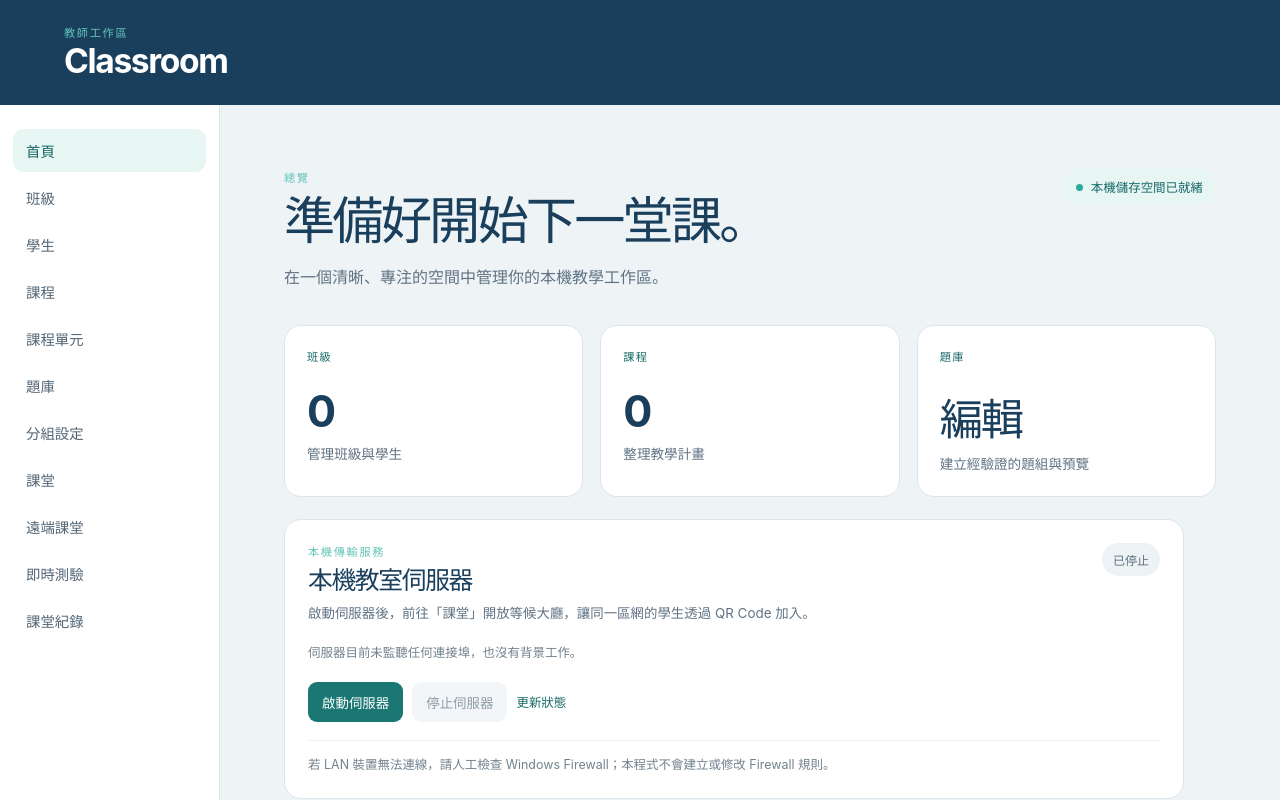
it: Teacher basic data workspace › shows an empty classroom state and validates a blank create
This screenshot has width=1280, height=800.
Check: the text "本機儲存空間已就緒" is shown, box [1063,169,1216,205]
Click the button "班級": (110, 198) [13,176,206,219]
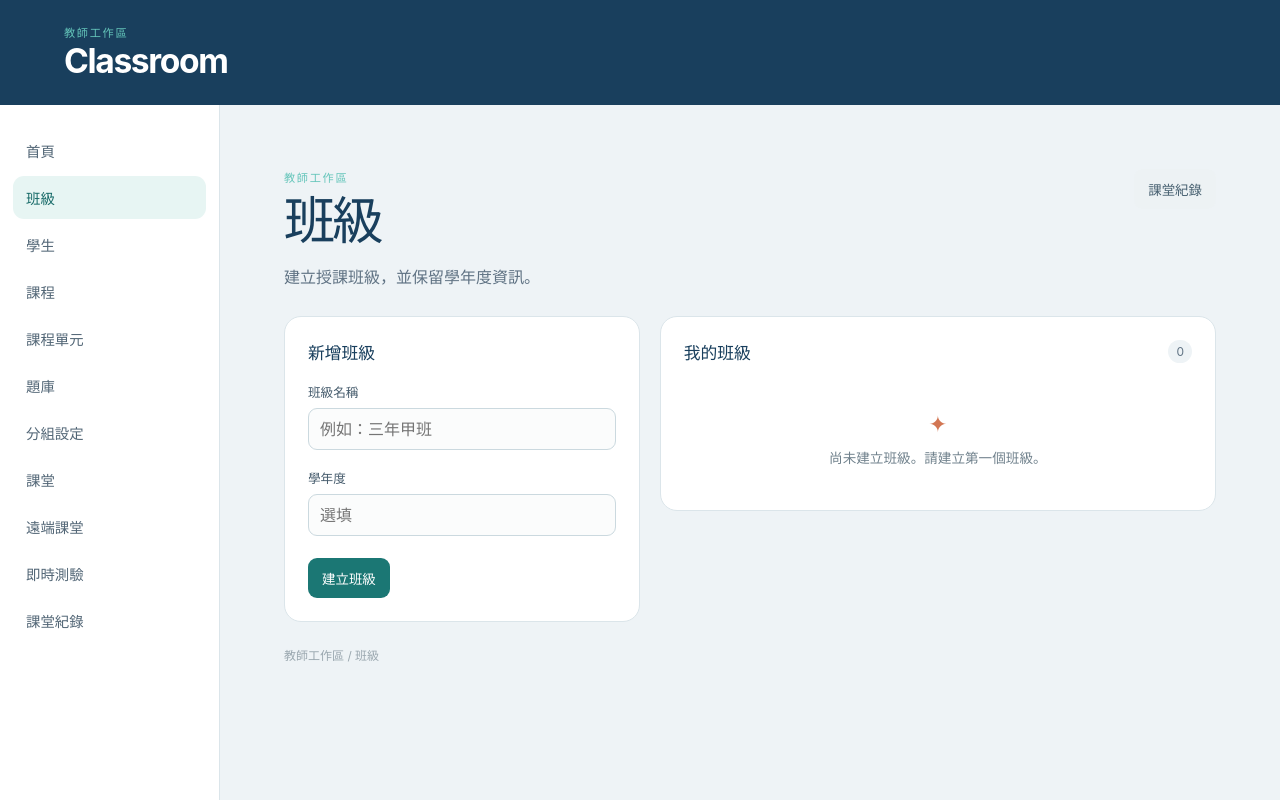
Check: the heading "班級" is shown, box [284,189,381,251]
Check: the text "尚未建立班級。請建立第一個班級。" is shown, box [829,450,1047,466]
Click the button "建立班級": (349, 578) [308,558,390,598]
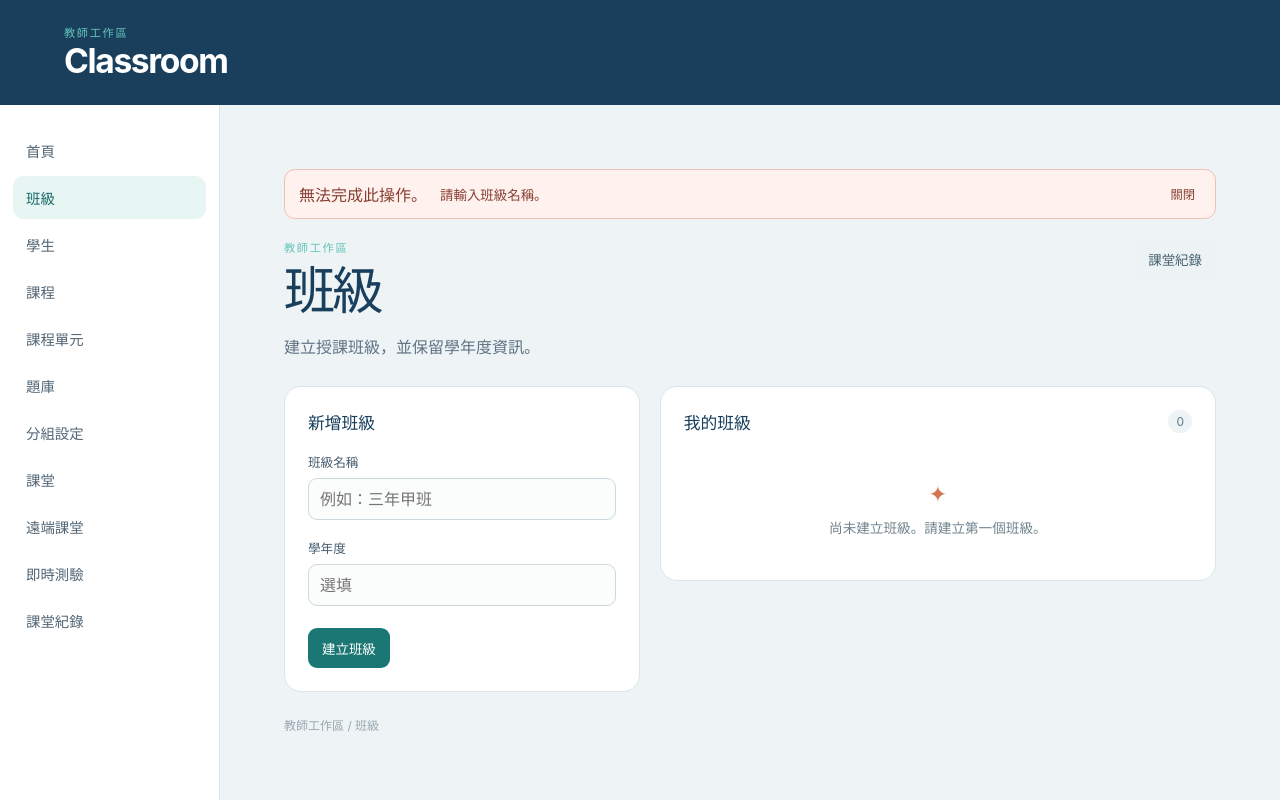
Check: the message shows "請輸入班級名稱。", box [440,187,548,203]
